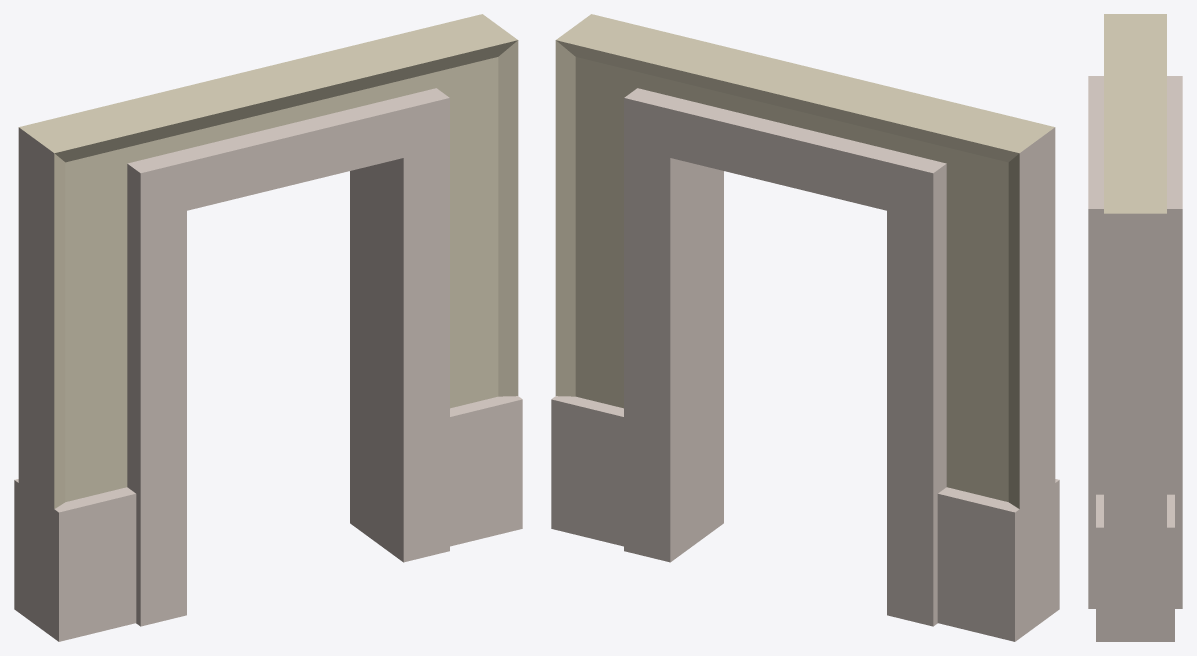
The model's file is roman_wall_door_3.fbx.
3 views of the same model, side by side, from view 1: azimuth 30°, elevation 25°; view 2: azimuth 150°, elevation 25°; view 3: azimuth 270°, elevation 25° (orthographic). The views are drawn at different scales.
Visible parts, largest first — view 1: Cube.045; view 2: Cube.045; view 3: Cube.045.
Part boxes in pixels (x1=…): Cube.045: x1=14, y1=14, x2=522, y2=641; Cube.045: x1=551, y1=14, x2=1059, y2=641; Cube.045: x1=1088, y1=14, x2=1182, y2=641.
Bounding box in the file's own units: 3 × 3 × 0.6.
